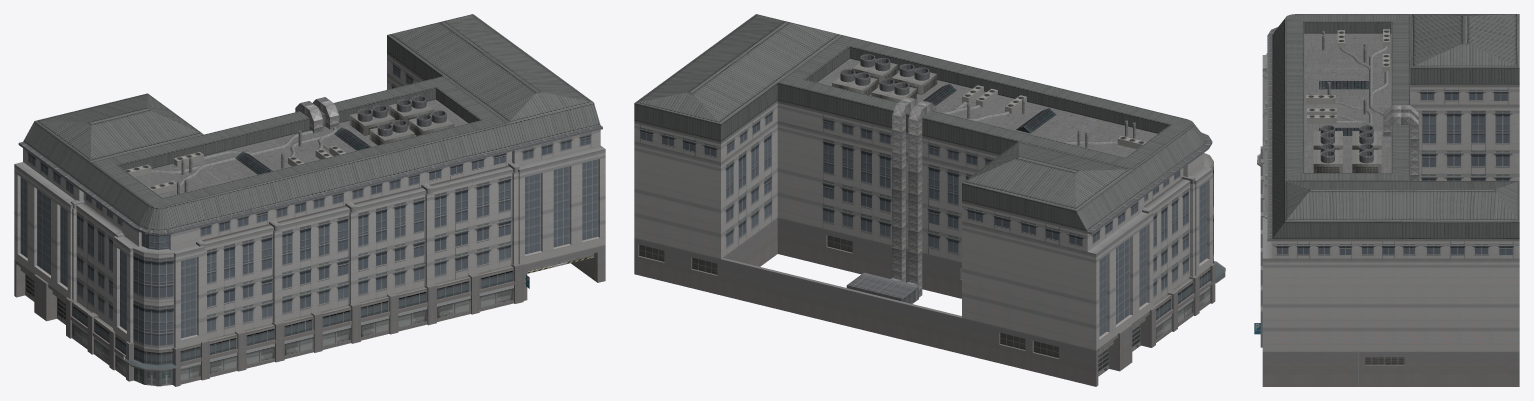
The model's file is building-e.glb.
3 renders of one model, left to right at view 1: azimuth 30°, elevation 25°; view 2: azimuth 150°, elevation 25°; view 3: azimuth 270°, elevation 25°, orthographic. The views are drawn at different scales.
Visible parts, largest first — view 1: AIT01W2W4; view 2: AIT01W2W4; view 3: AIT01W2W4.
Part boxes in pixels (bbox=[...]): AIT01W2W4: bbox=[14, 14, 605, 386]; AIT01W2W4: bbox=[634, 14, 1225, 386]; AIT01W2W4: bbox=[1254, 14, 1519, 386].
Size of the model in its own units: 2 by 0.7753 by 1.02.
Materials: 1 (1 with a texture image).
